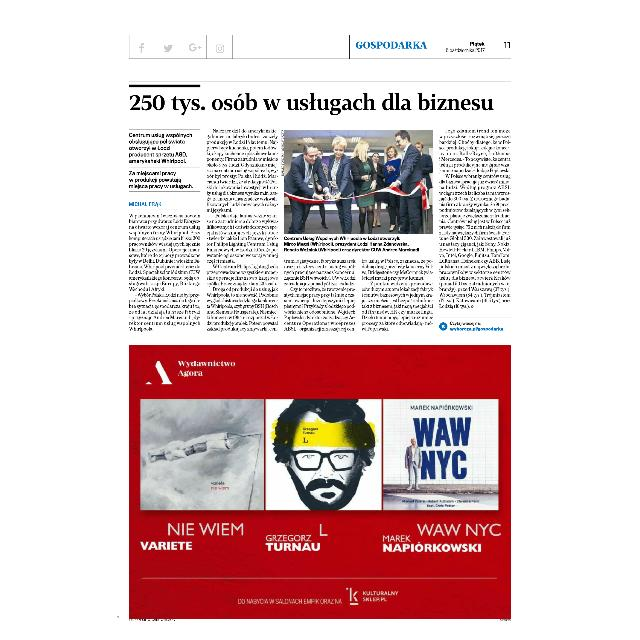article: (128, 83, 512, 334)
